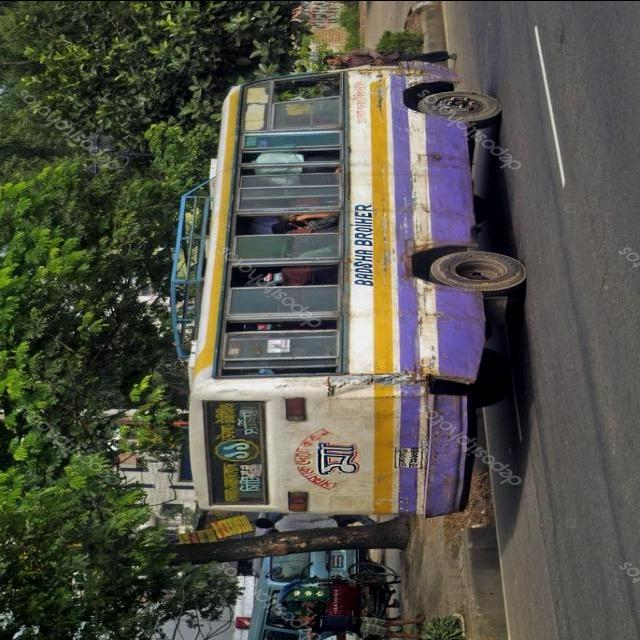bus: (169, 60, 528, 519)
